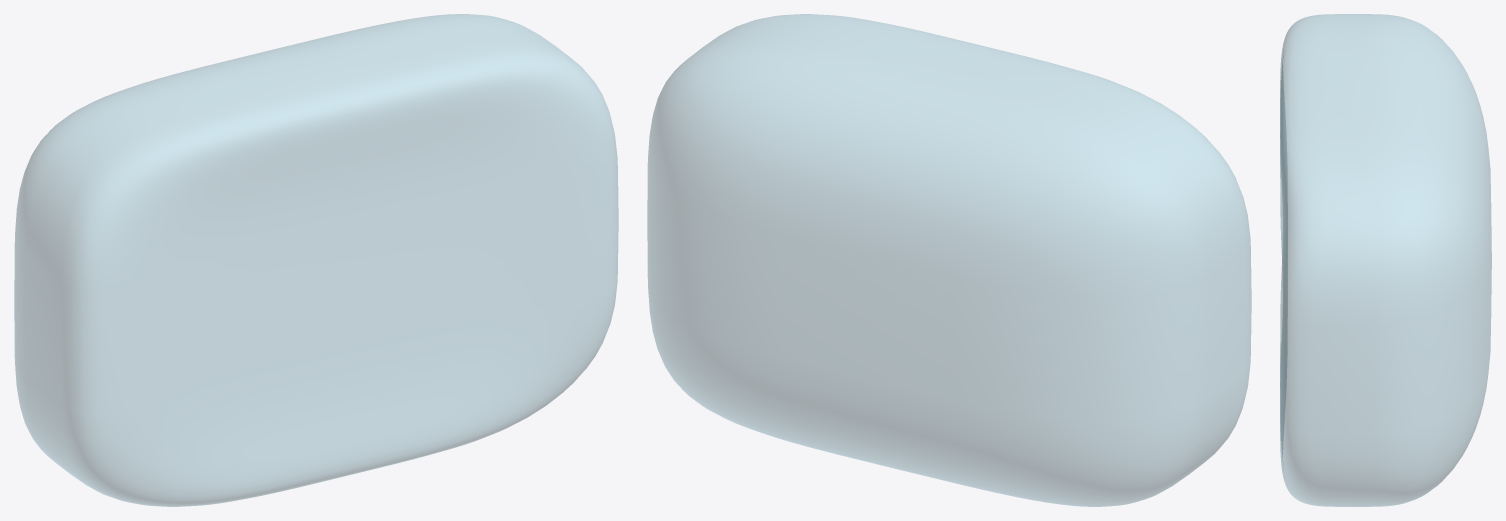
3 views of the same model, side by side, from view 1: azimuth 30°, elevation 25°; view 2: azimuth 150°, elevation 25°; view 3: azimuth 270°, elevation 25° (orthographic). The views are drawn at different scales.
Visible parts, largest first — view 1: gel-body; view 2: gel-body; view 3: gel-body.
Boxes of the visible parts, x1=… form: gel-body: x1=14, y1=14, x2=618, y2=506; gel-body: x1=647, y1=14, x2=1251, y2=506; gel-body: x1=1280, y1=14, x2=1491, y2=506.
Bounding box in the file's own units: 2 × 1.34 × 0.7483.
